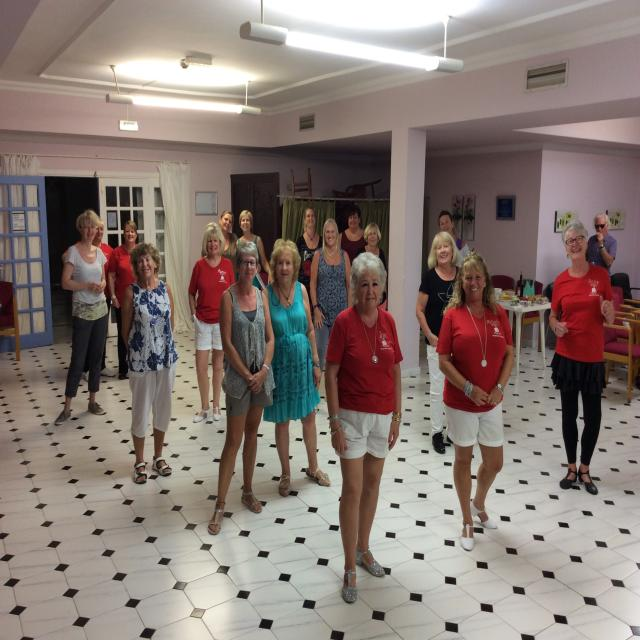body: (322, 249, 403, 606), (435, 251, 515, 555), (206, 239, 277, 535), (548, 215, 619, 501), (258, 236, 332, 498), (119, 236, 179, 485), (55, 208, 110, 426), (415, 229, 463, 455), (187, 220, 240, 423), (60, 209, 110, 386), (309, 218, 353, 415), (107, 220, 139, 379), (295, 206, 324, 316), (235, 210, 274, 290), (200, 210, 240, 284), (584, 212, 618, 284), (437, 209, 471, 268), (338, 204, 368, 267), (352, 222, 388, 272)
